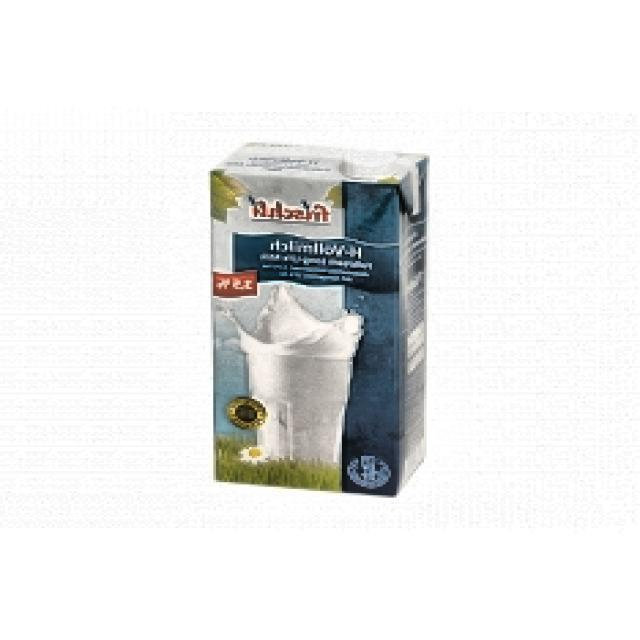cardboard: (211, 140, 432, 496)
